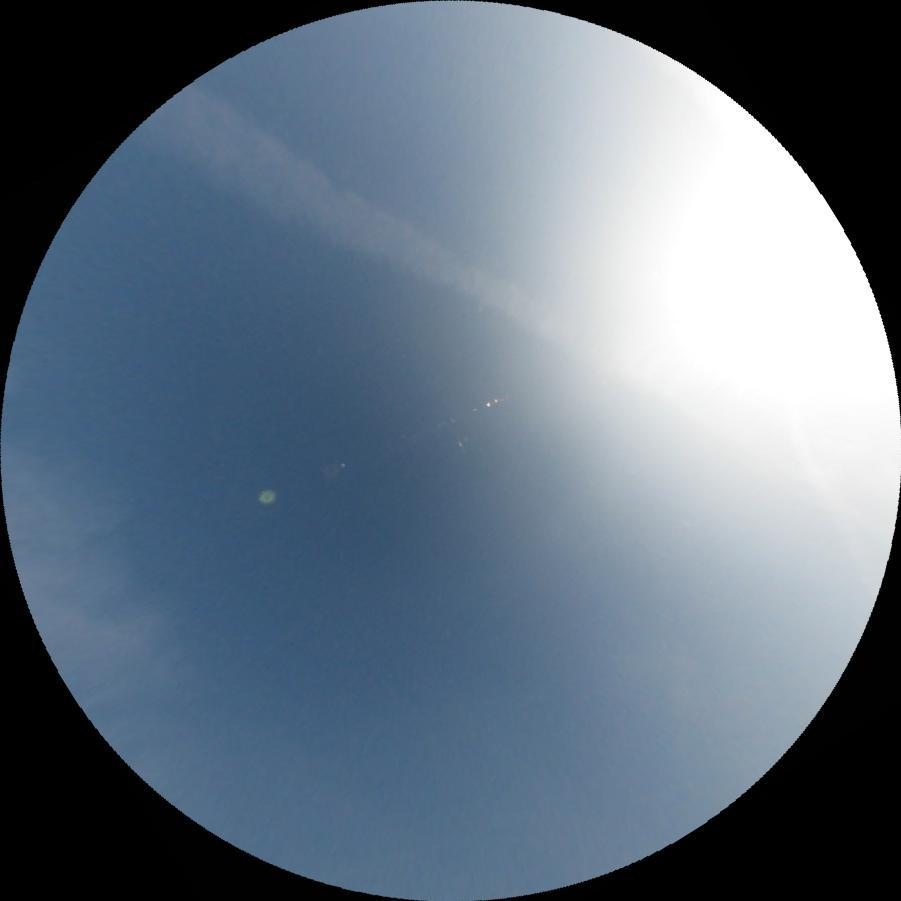contrail veryold: (129, 67, 611, 367)
sun: (618, 129, 897, 417)
